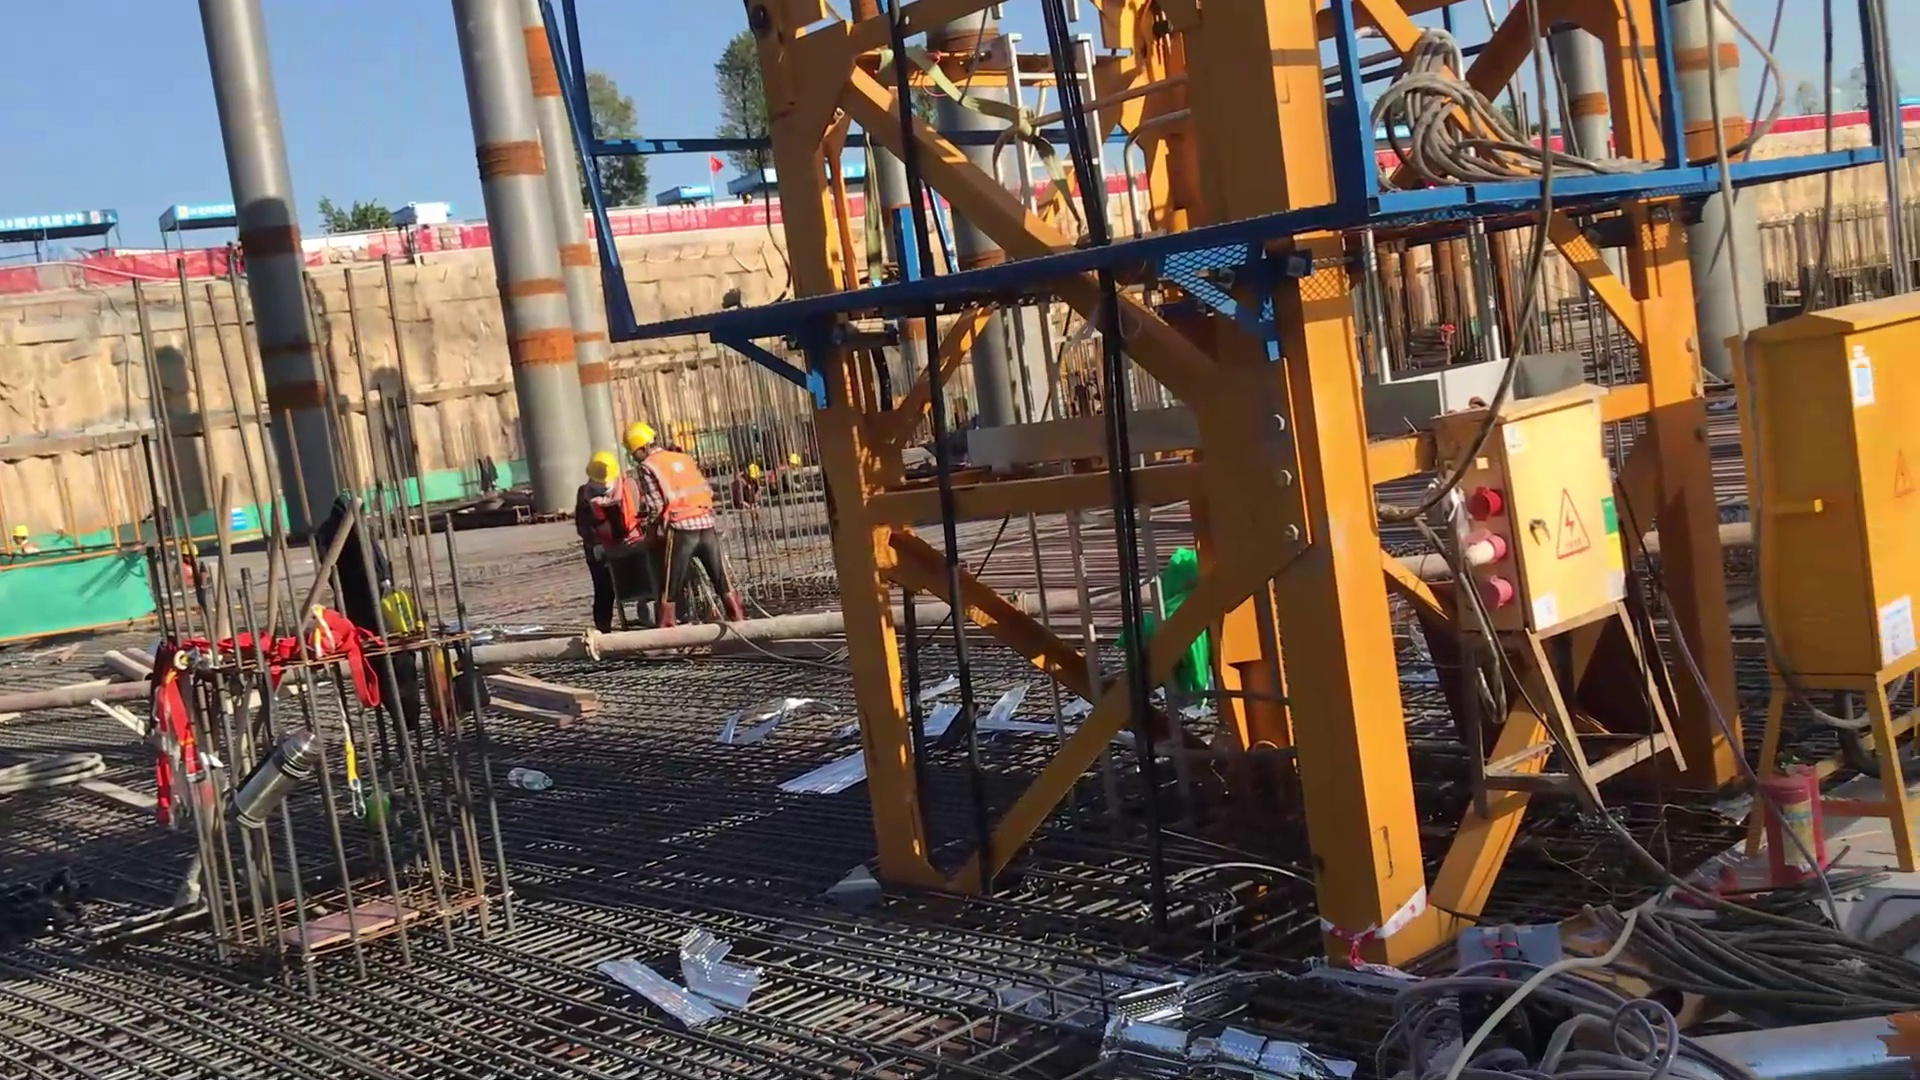ebox: (1436, 380, 1684, 712), (1738, 282, 1920, 687)
fence: (1, 252, 170, 297), (615, 203, 768, 228)
helmet: (620, 420, 662, 452), (584, 448, 619, 484), (10, 526, 30, 542)
person: (619, 420, 747, 630), (571, 448, 649, 634)
slogan: (1, 209, 111, 231), (170, 198, 238, 225), (233, 507, 247, 530)
vest: (639, 450, 717, 526), (584, 482, 647, 548)
